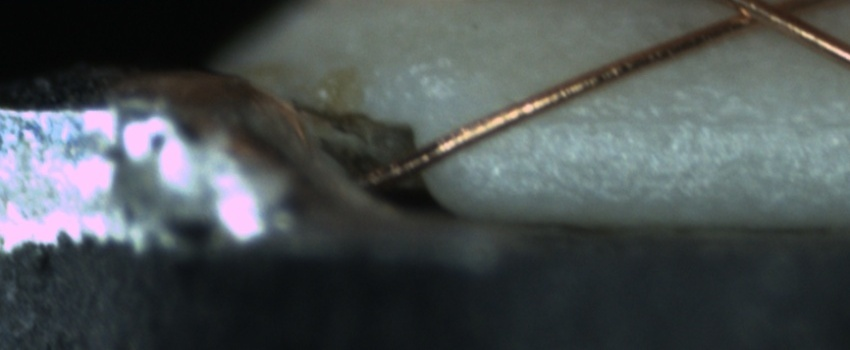CL: (707, 0, 821, 39)
DL: (525, 89, 850, 153)
